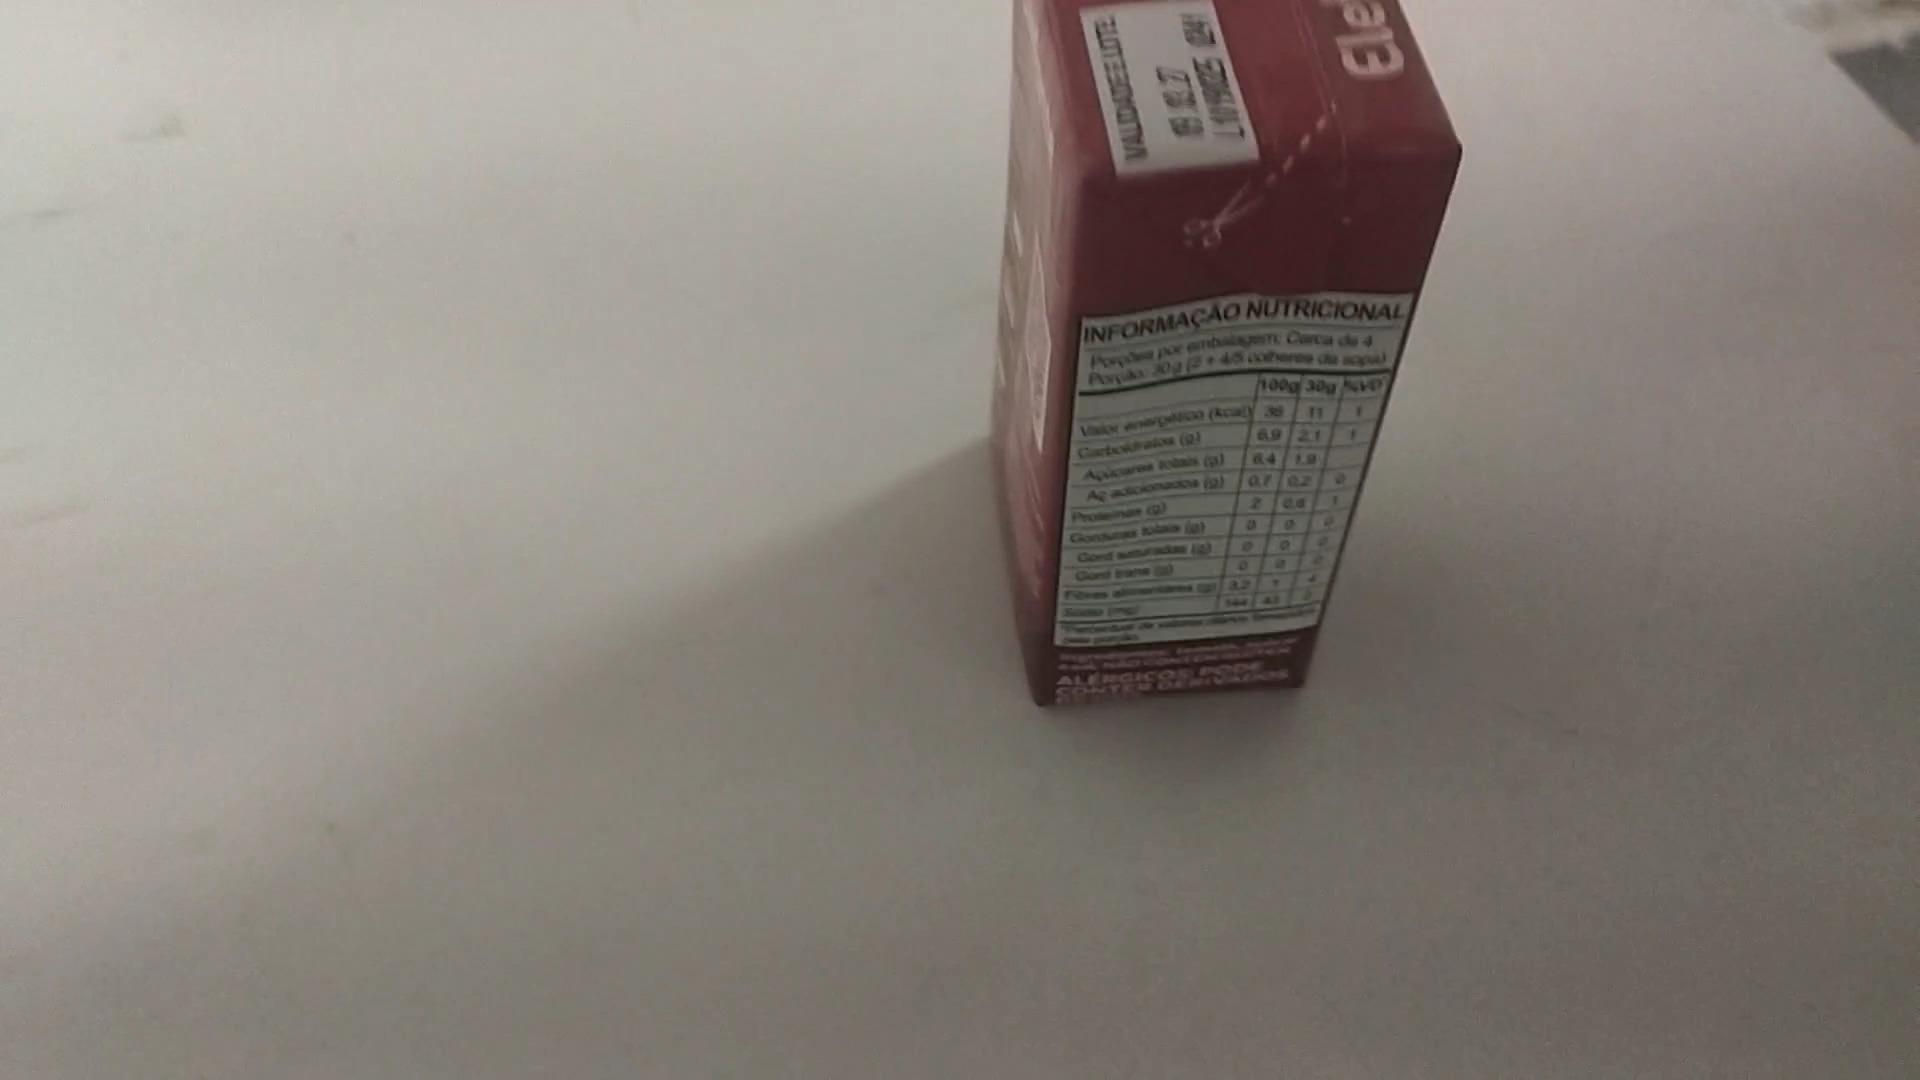tomate: (975, 0, 1472, 723)
